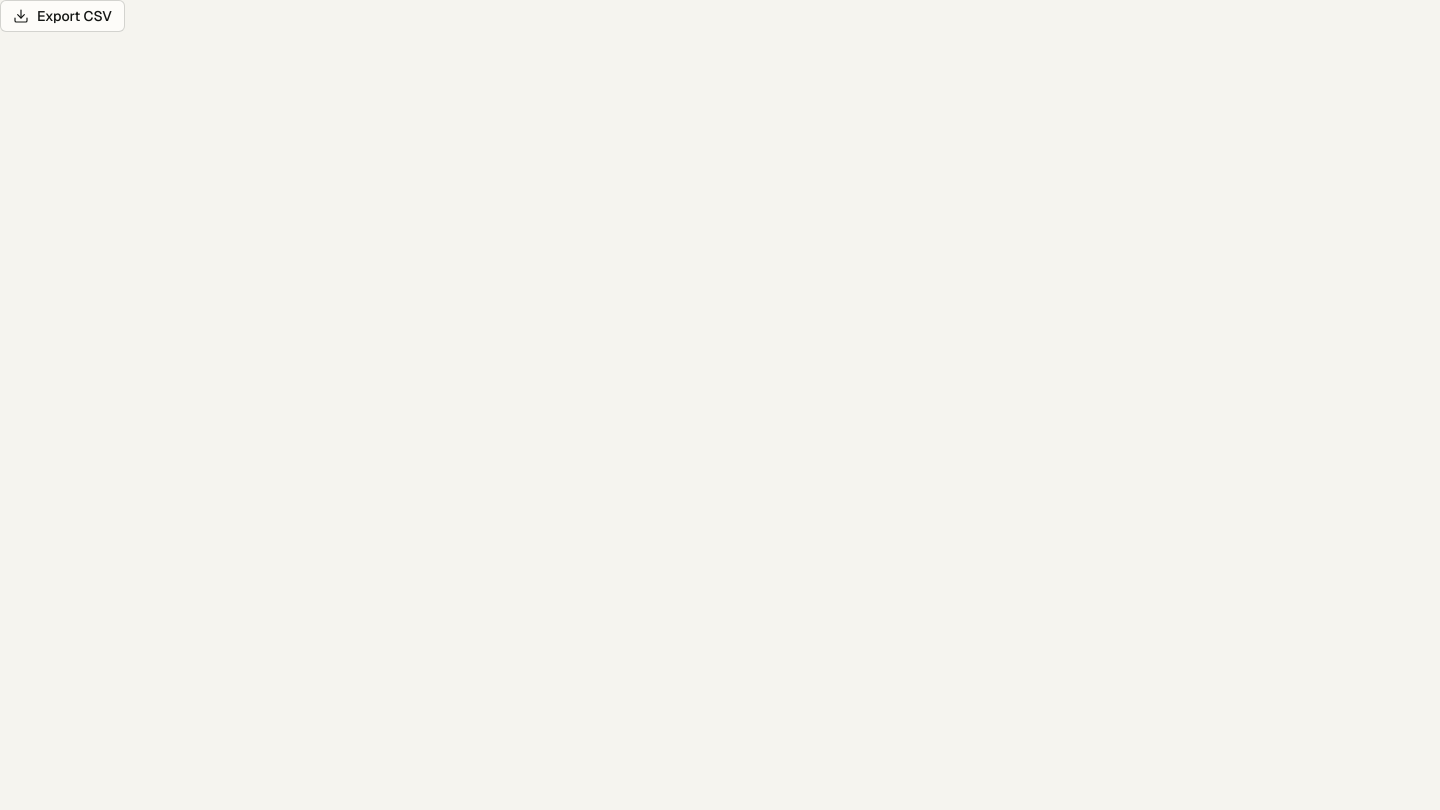
it: ExportButton › shows the read-budget refusal with only Close
The width and height of the screenshot is (1440, 810).
What coordinates should you click on to do the following:
click the button "Export CSV"
I would click on:
 (62, 16)
Its box is [0, 0, 125, 32].
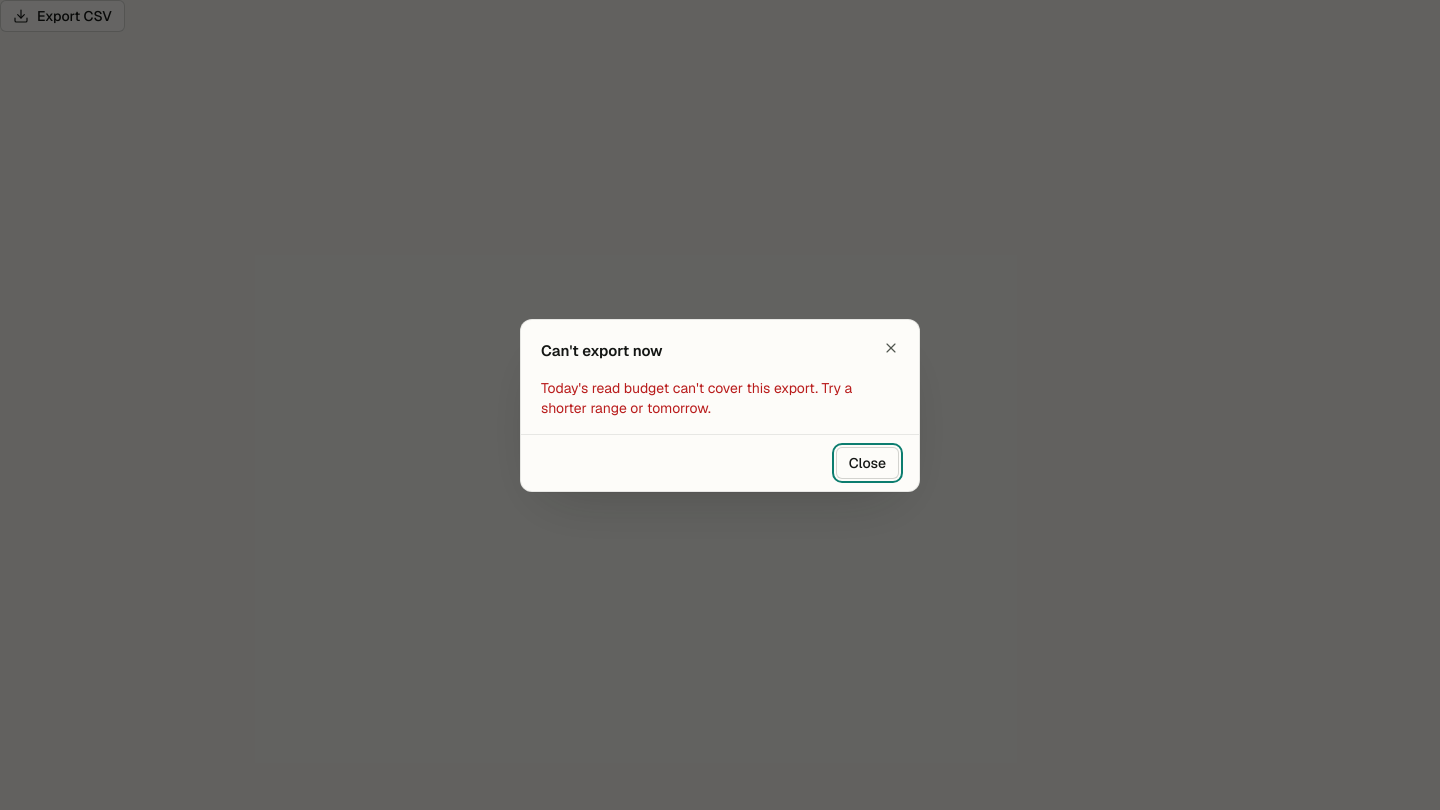
Now the message shows "Today's read budget can't cover this export.", box [541, 378, 852, 416]
Now the heading "Can't export now" is shown, box [541, 340, 663, 360]
